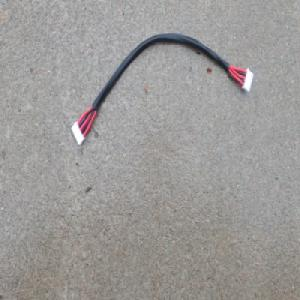Wire: (70, 30, 254, 148)
